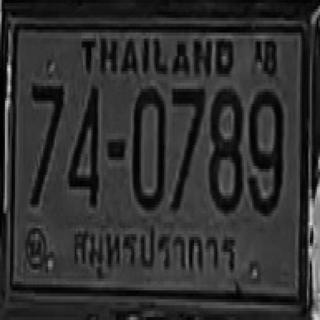N00: (131, 86, 164, 208)
N04: (67, 83, 99, 204)
N07: (171, 88, 204, 209), (30, 83, 63, 204)
N08: (208, 86, 241, 210)
N09: (247, 89, 282, 213)
P57: (67, 216, 240, 284)
